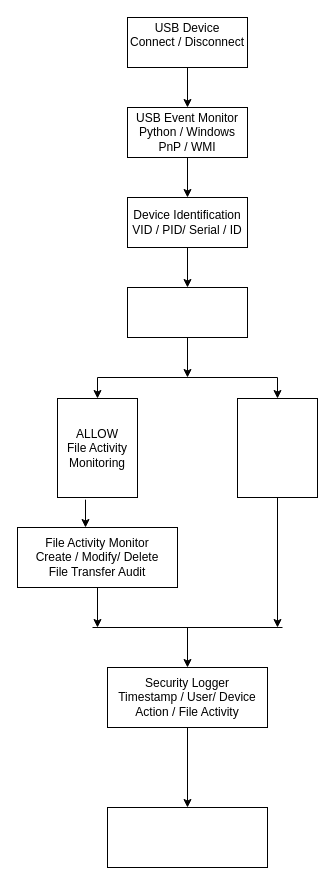
This 335x885 diagram has some shape labels left out. Here are the shapes that lost their labels. From the top down, the centre of each, then its label:
At point (187, 312): "Authorization Engine Allowlist / Blocklist".
At point (277, 448): "BLOCK Disable Device".
At point (187, 837): "Report Generator CSV /Security Report".
